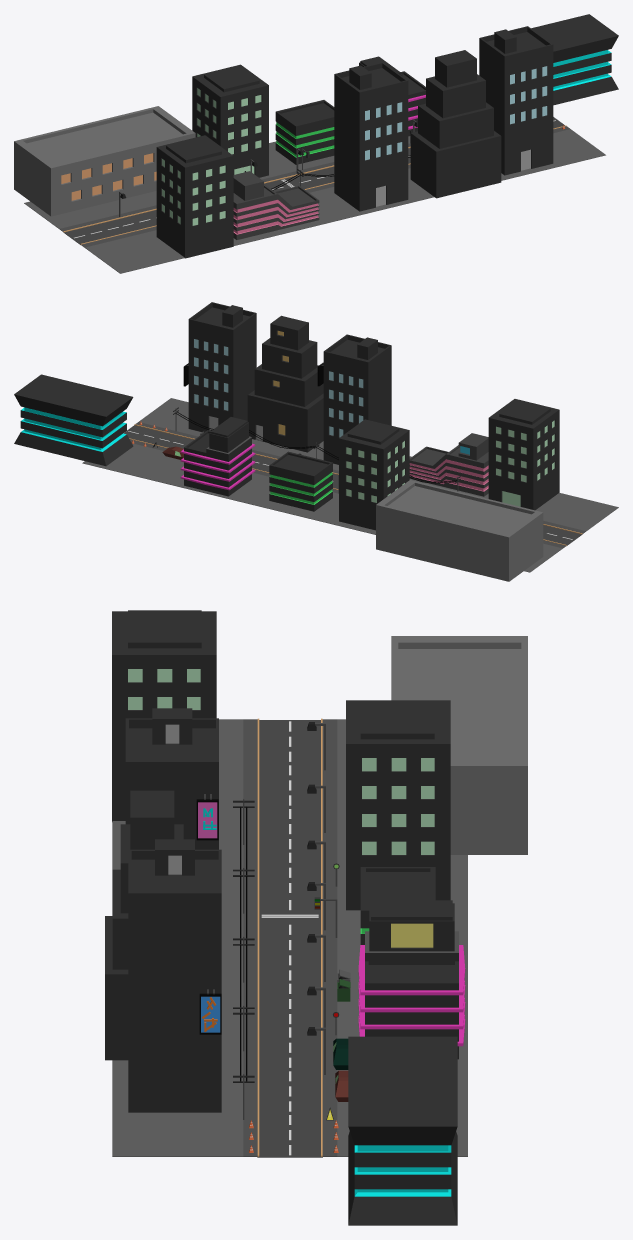
The model's file is Environmentall.fbx.
3 renders of one model, top to bottom at view 1: azimuth 30°, elevation 25°; view 2: azimuth 150°, elevation 25°; view 3: azimuth 270°, elevation 25°, orthographic. The views are drawn at different scales.
Visible parts, largest first — view 1: Cube.132, Cube.006, Cube.143, Cube.131, Cube.174, Cube.127, Cube.033, Cube.130, Cube, Cube.126, Cube.139, Cube.036 (+16 smaller); view 2: Cube.132, Cube.143, Cube.174, Cube.131, Cube.006, Cube.009, Cube.125, Cube.035, Cube.130, Cube, Cube.126, Cube.139 (+12 smaller); view 3: Cube.131, Cube.132, Cube.174, Cube.009, Cube.034, Cube.006, Cube.143, Cube.157, Cube.128, Cube.033, Cube.127, Cube (+39 smaller).
Part boxes in pixels (x1,y1,x2,y2): Cube.132: [14, 106, 195, 216]; Cube.006: [334, 62, 408, 211]; Cube.143: [410, 50, 501, 198]; Cube.131: [479, 26, 553, 175]; Cube.174: [531, 14, 618, 105]; Cube.127: [180, 153, 233, 258]; Cube.033: [216, 82, 268, 177]; Cube.130: [233, 171, 319, 239]; Cube: [275, 100, 334, 164]; Cube.126: [160, 146, 192, 257]; Cube.139: [85, 235, 168, 273]; Cube.036: [193, 76, 227, 151]; Cube.132: [376, 480, 543, 581]; Cube.143: [247, 315, 323, 452]; Cube.174: [14, 374, 133, 466]; Cube.131: [188, 302, 256, 431]; Cube.006: [323, 334, 391, 464]; Cube.009: [180, 417, 255, 496]; Cube.125: [488, 415, 535, 509]; Cube.035: [339, 436, 387, 530]; Cube.130: [409, 433, 488, 496]; Cube: [269, 451, 332, 511]; Cube.126: [526, 408, 559, 510]; Cube.139: [543, 496, 618, 531]; Cube.131: [128, 839, 221, 1112]; Cube.132: [391, 636, 527, 854]; Cube.174: [348, 1036, 457, 1225]; Cube.009: [358, 900, 465, 1059]; Cube.034: [347, 737, 450, 909]; Cube.006: [125, 708, 218, 849]; Cube.143: [105, 790, 183, 1060]; Cube.157: [112, 1112, 243, 1156]; Cube.128: [113, 648, 216, 718]; Cube.033: [346, 700, 361, 910]; Cube.127: [112, 611, 127, 821]; Cube: [360, 867, 435, 944].
Size of the model in its own units: 246 by 54.17 by 87.06.
